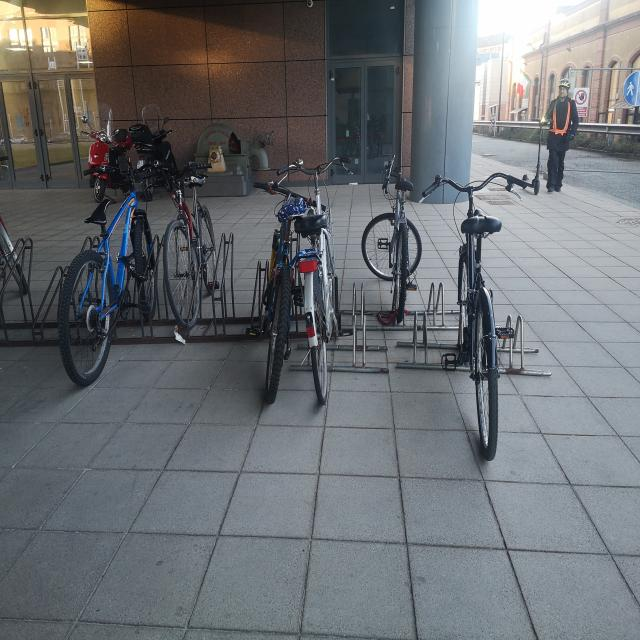Bicycle: (423, 156, 548, 459), (54, 139, 174, 401), (296, 143, 362, 415), (252, 150, 300, 421), (163, 161, 222, 360), (365, 163, 430, 324)
